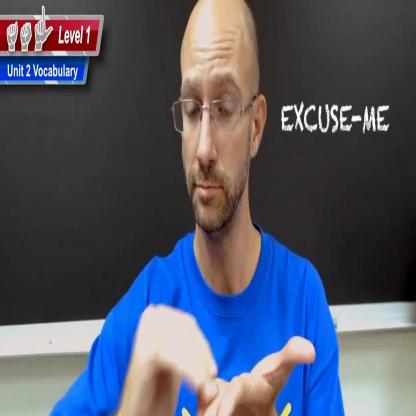ExcuseMe: (106, 292, 329, 416)
